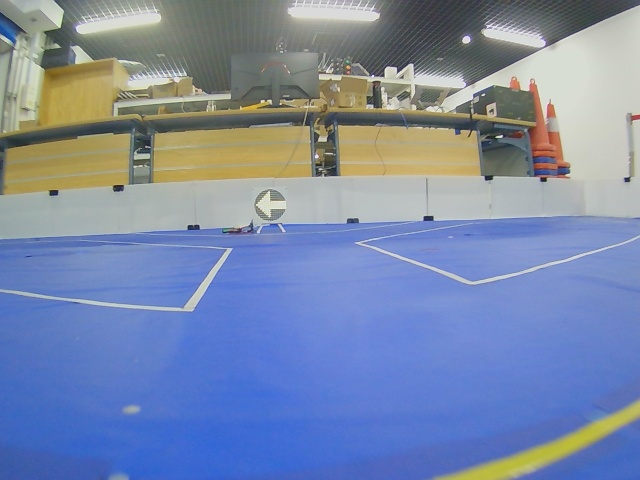left_yellow: (254, 189, 287, 221)
